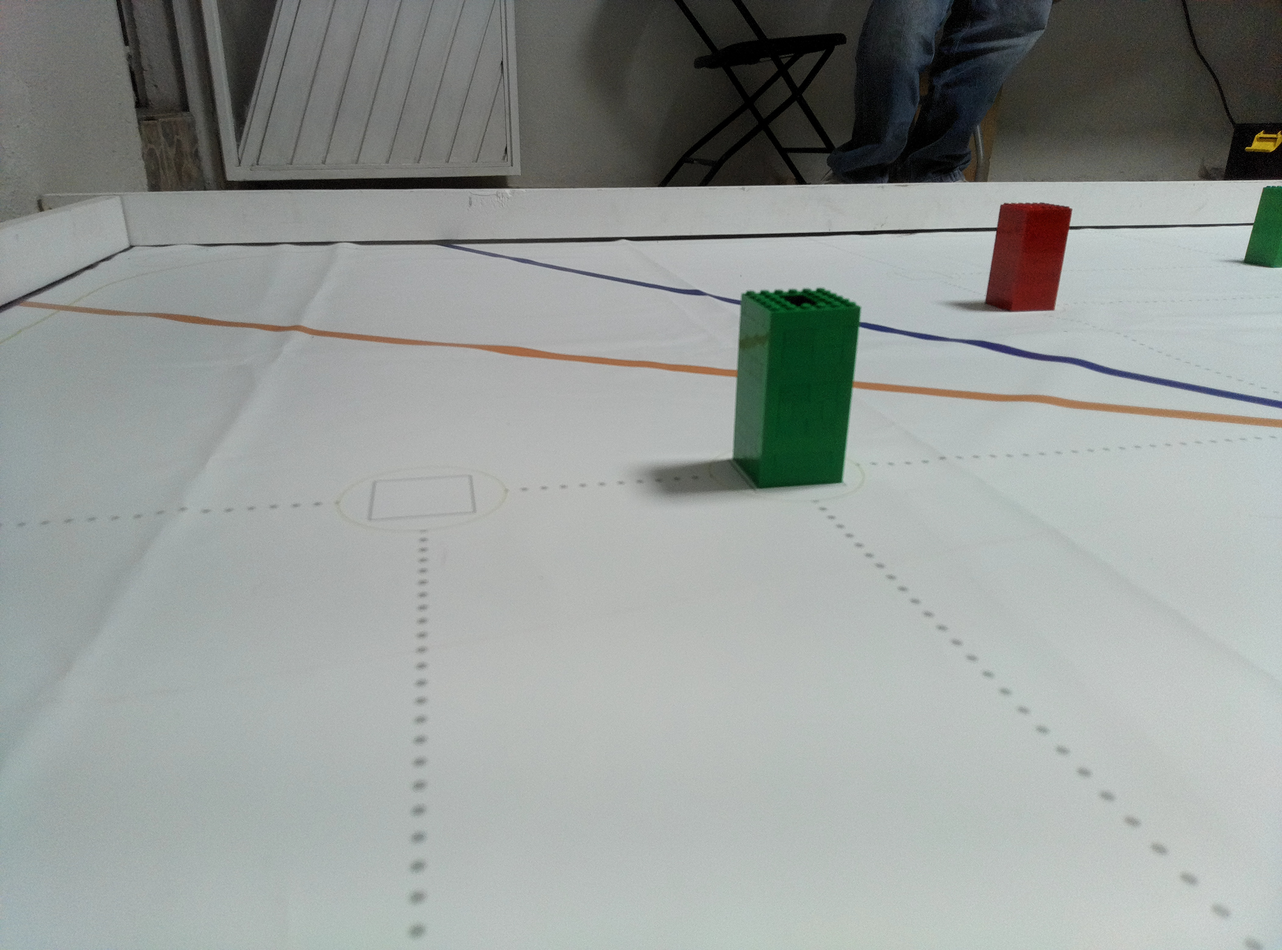greenbox: (727, 286, 863, 491), (1240, 183, 1279, 270)
redbox: (981, 202, 1078, 314)
